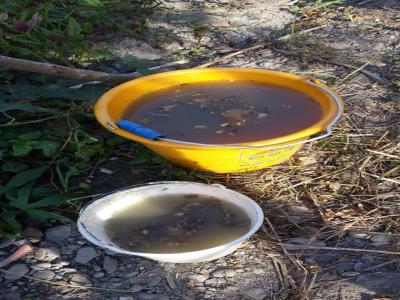bucket: (89, 66, 348, 178), (75, 182, 267, 265)
